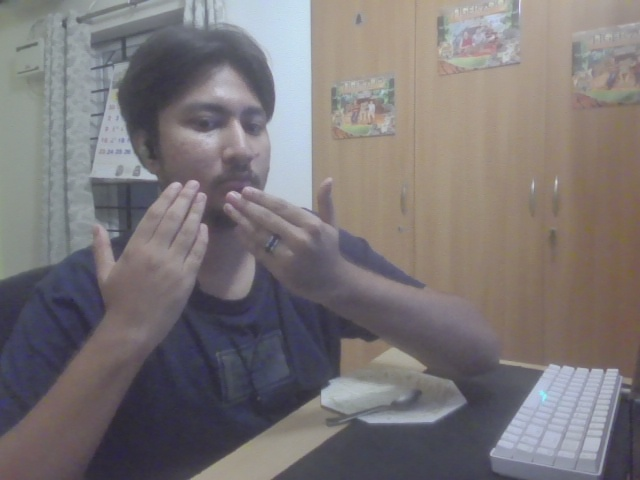thankyou: (84, 172, 352, 338)
